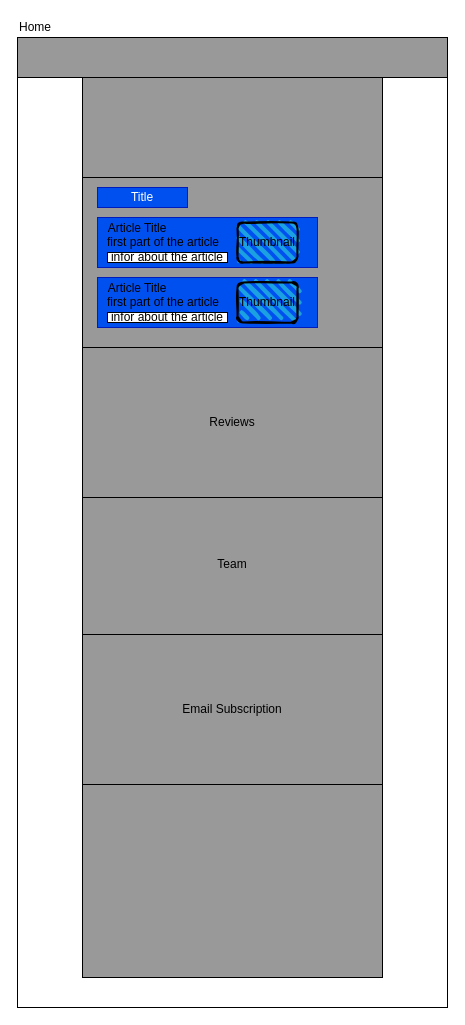
Image size: 465x1025. Some labels were removed from this diagram. The shapes that lost their labels are listed below. From the top down, each one's centre as x and y in pixels, then its label:
At (232,57): "Nav Bar".
At (232,127): "Header".
At (232,881): "Leave Review".
